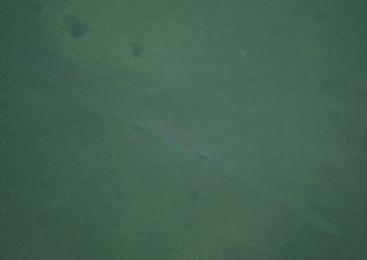Fistularia commersonii: (43, 43, 348, 247)
